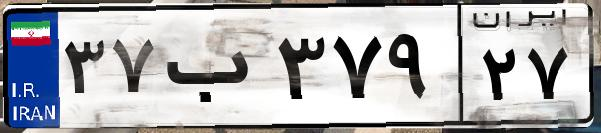2: (475, 38, 525, 113)
3: (270, 28, 330, 110), (57, 26, 110, 100)
7: (330, 28, 385, 110), (525, 38, 570, 115), (110, 28, 158, 98)
9: (385, 28, 445, 110)
ب: (158, 20, 270, 120)
